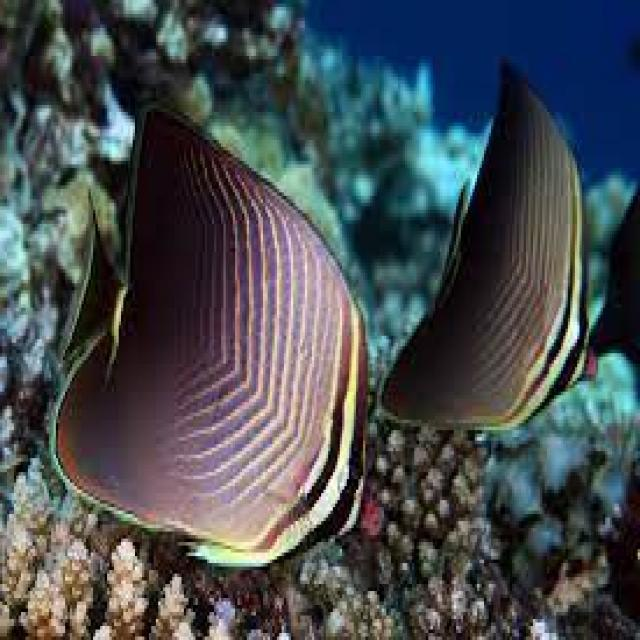ButterflyFish: (32, 121, 379, 597), (380, 51, 624, 476)
